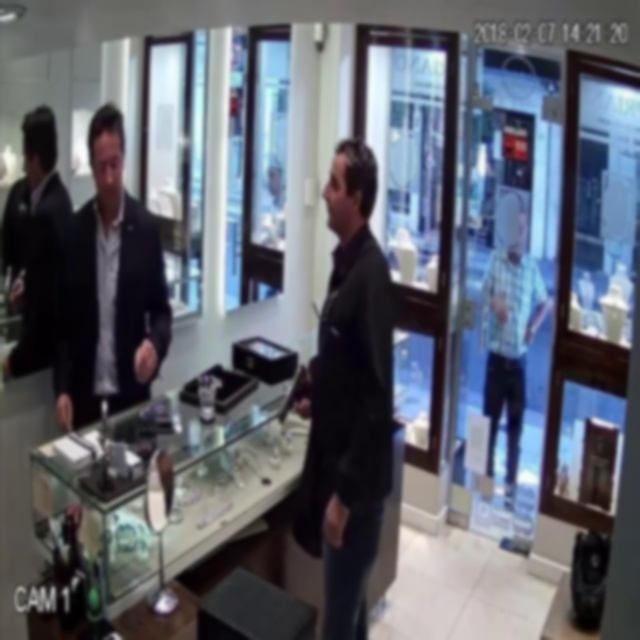gun: (274, 349, 318, 437)
